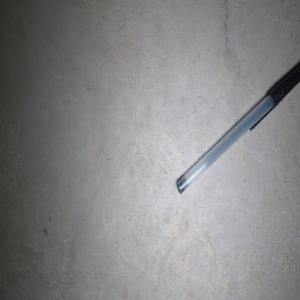Pen: (176, 64, 300, 193)
